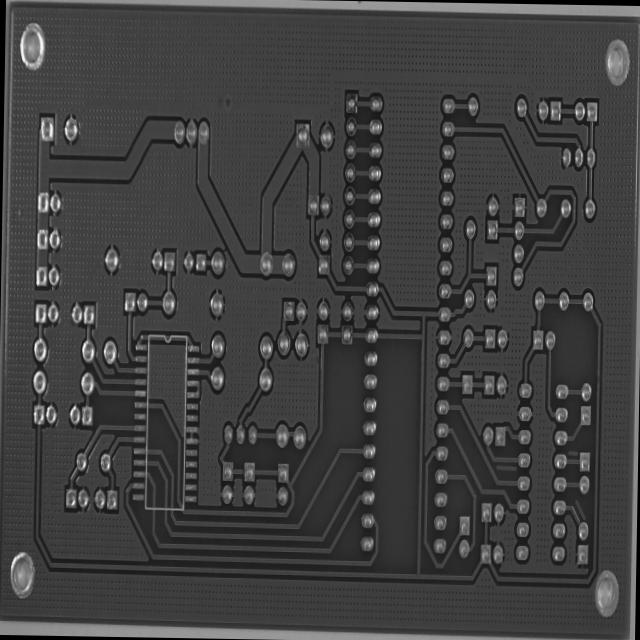spurious_copper: (492, 456, 518, 480), (572, 494, 590, 528), (564, 442, 580, 468)
